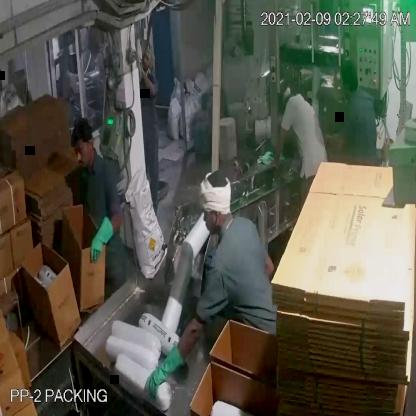glove: (142, 338, 187, 405), (88, 209, 120, 269)
no_glove: (136, 62, 158, 102), (272, 119, 288, 174)
